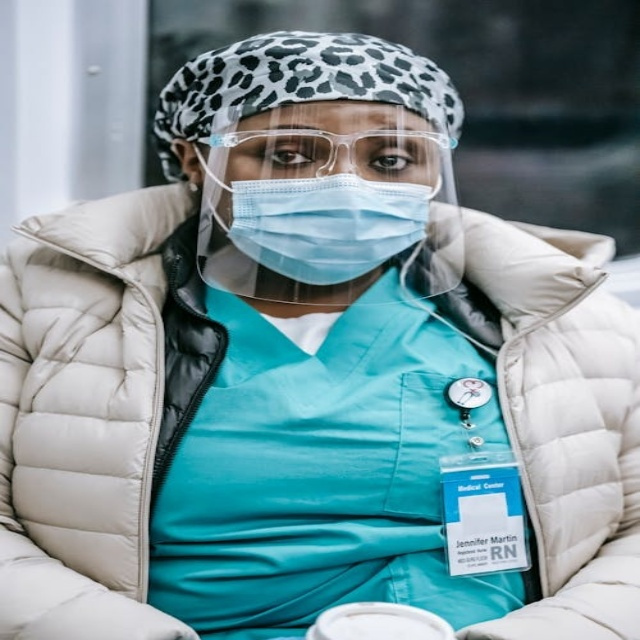Gafas: (200, 126, 455, 194)
Mascara: (214, 162, 438, 284)
